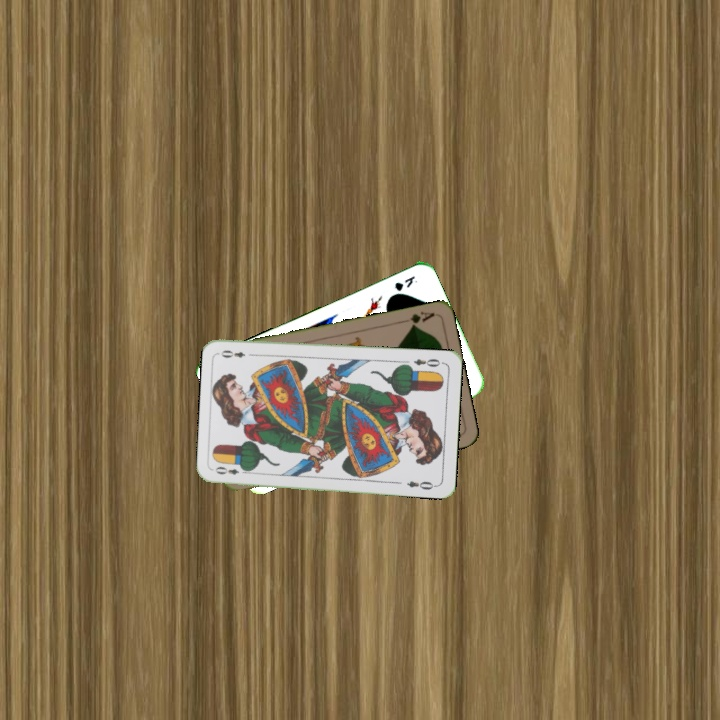EO: (410, 354, 446, 370), (211, 463, 251, 477)
GA: (397, 308, 437, 330)
GK: (390, 272, 417, 294)
